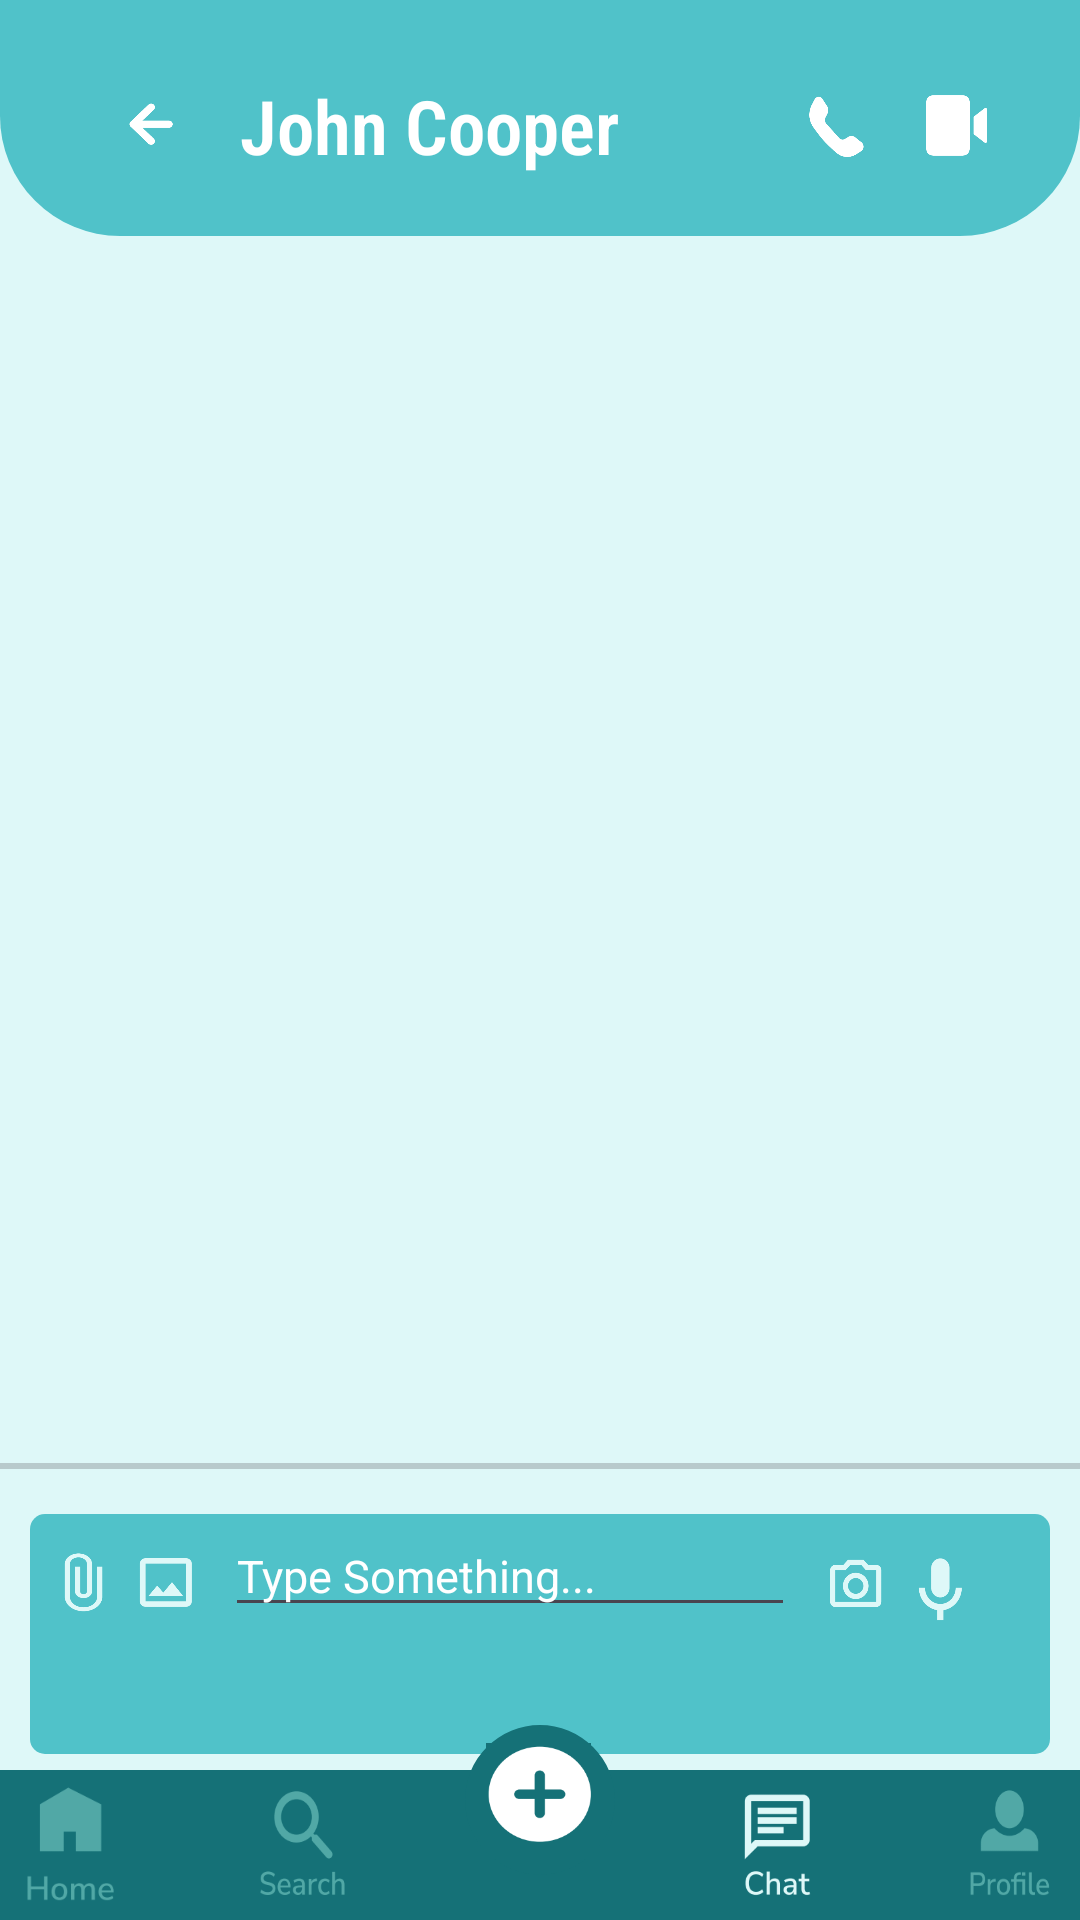

Screen size 1080w x 1920h. Icon name, then its box in pixels as region(x1, y1, x2, y2):
add file: region(65, 1553, 103, 1611)
add photo: region(140, 1558, 192, 1607)
back arrow: region(129, 103, 173, 145)
camera: region(830, 1560, 882, 1607)
phone: region(809, 97, 864, 157)
video: region(926, 95, 987, 156)
voice recorder: region(919, 1558, 962, 1620)
